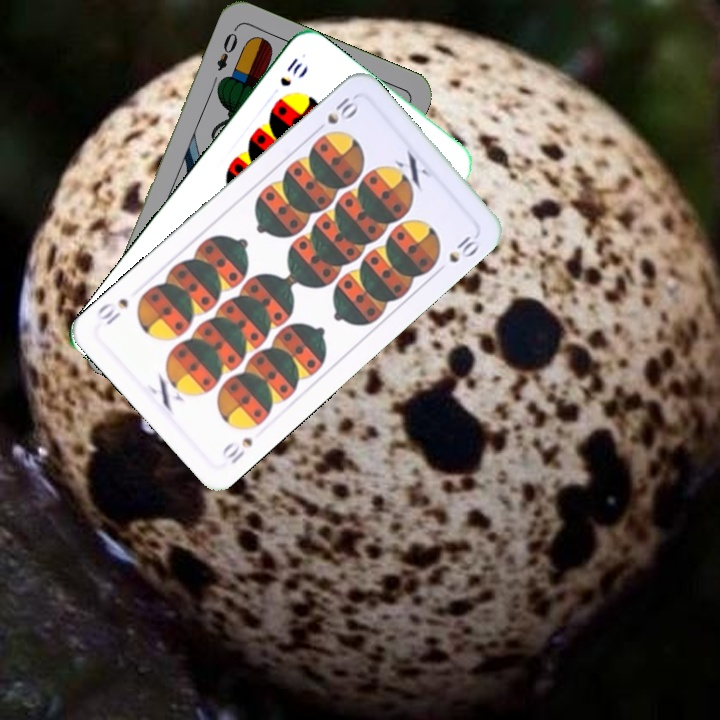EO: (212, 24, 241, 74)
S10: (310, 93, 362, 136), (217, 433, 256, 467), (276, 53, 305, 89)
